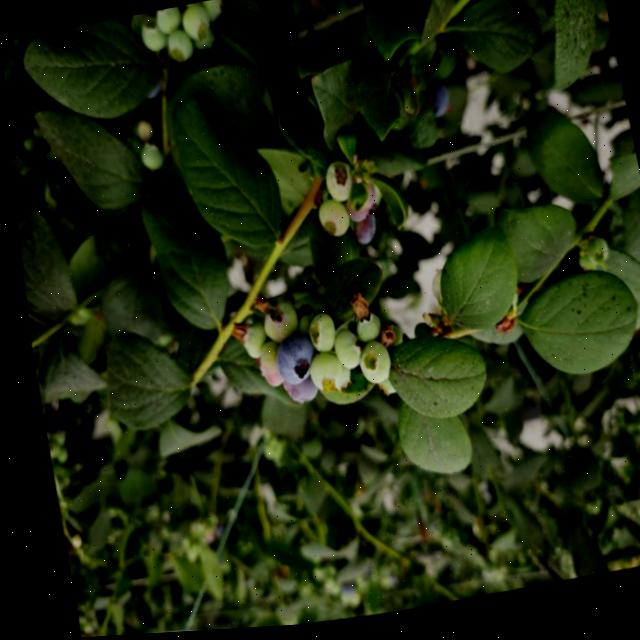RipeBlueBerry: (261, 334, 315, 397)
UnripeBlueBerry: (347, 342, 390, 395), (298, 353, 342, 404), (314, 161, 354, 213)
